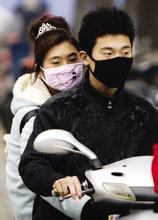OK: (39, 51, 84, 96), (92, 44, 134, 87)
